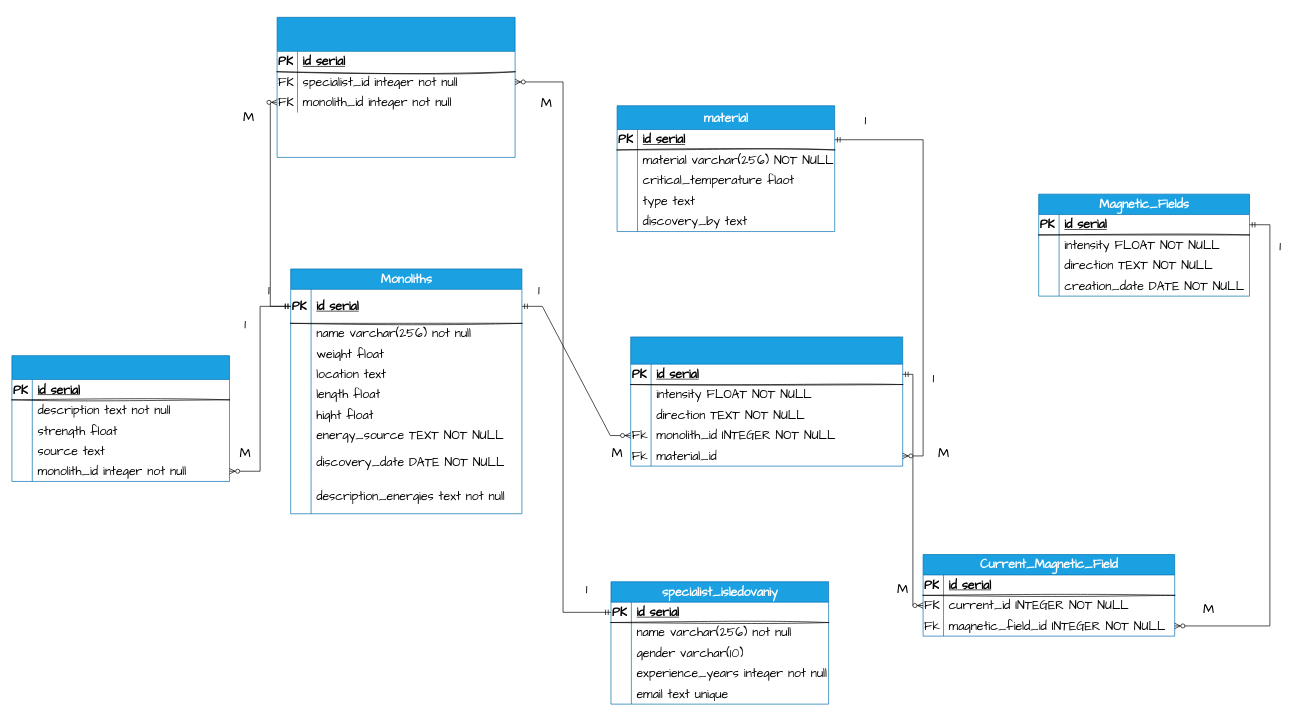
Image size: 1302x716. Some labels were removed from this diagram. The shapes that lost their labels are listed below. From the top down, each one's box as (x1, y1, x2, y2) in pixels, then its label:
(276, 17, 515, 157): specialist_monolith_ isledovaniy
(11, 355, 230, 481): generator_monolith
(630, 336, 903, 466): Currents
